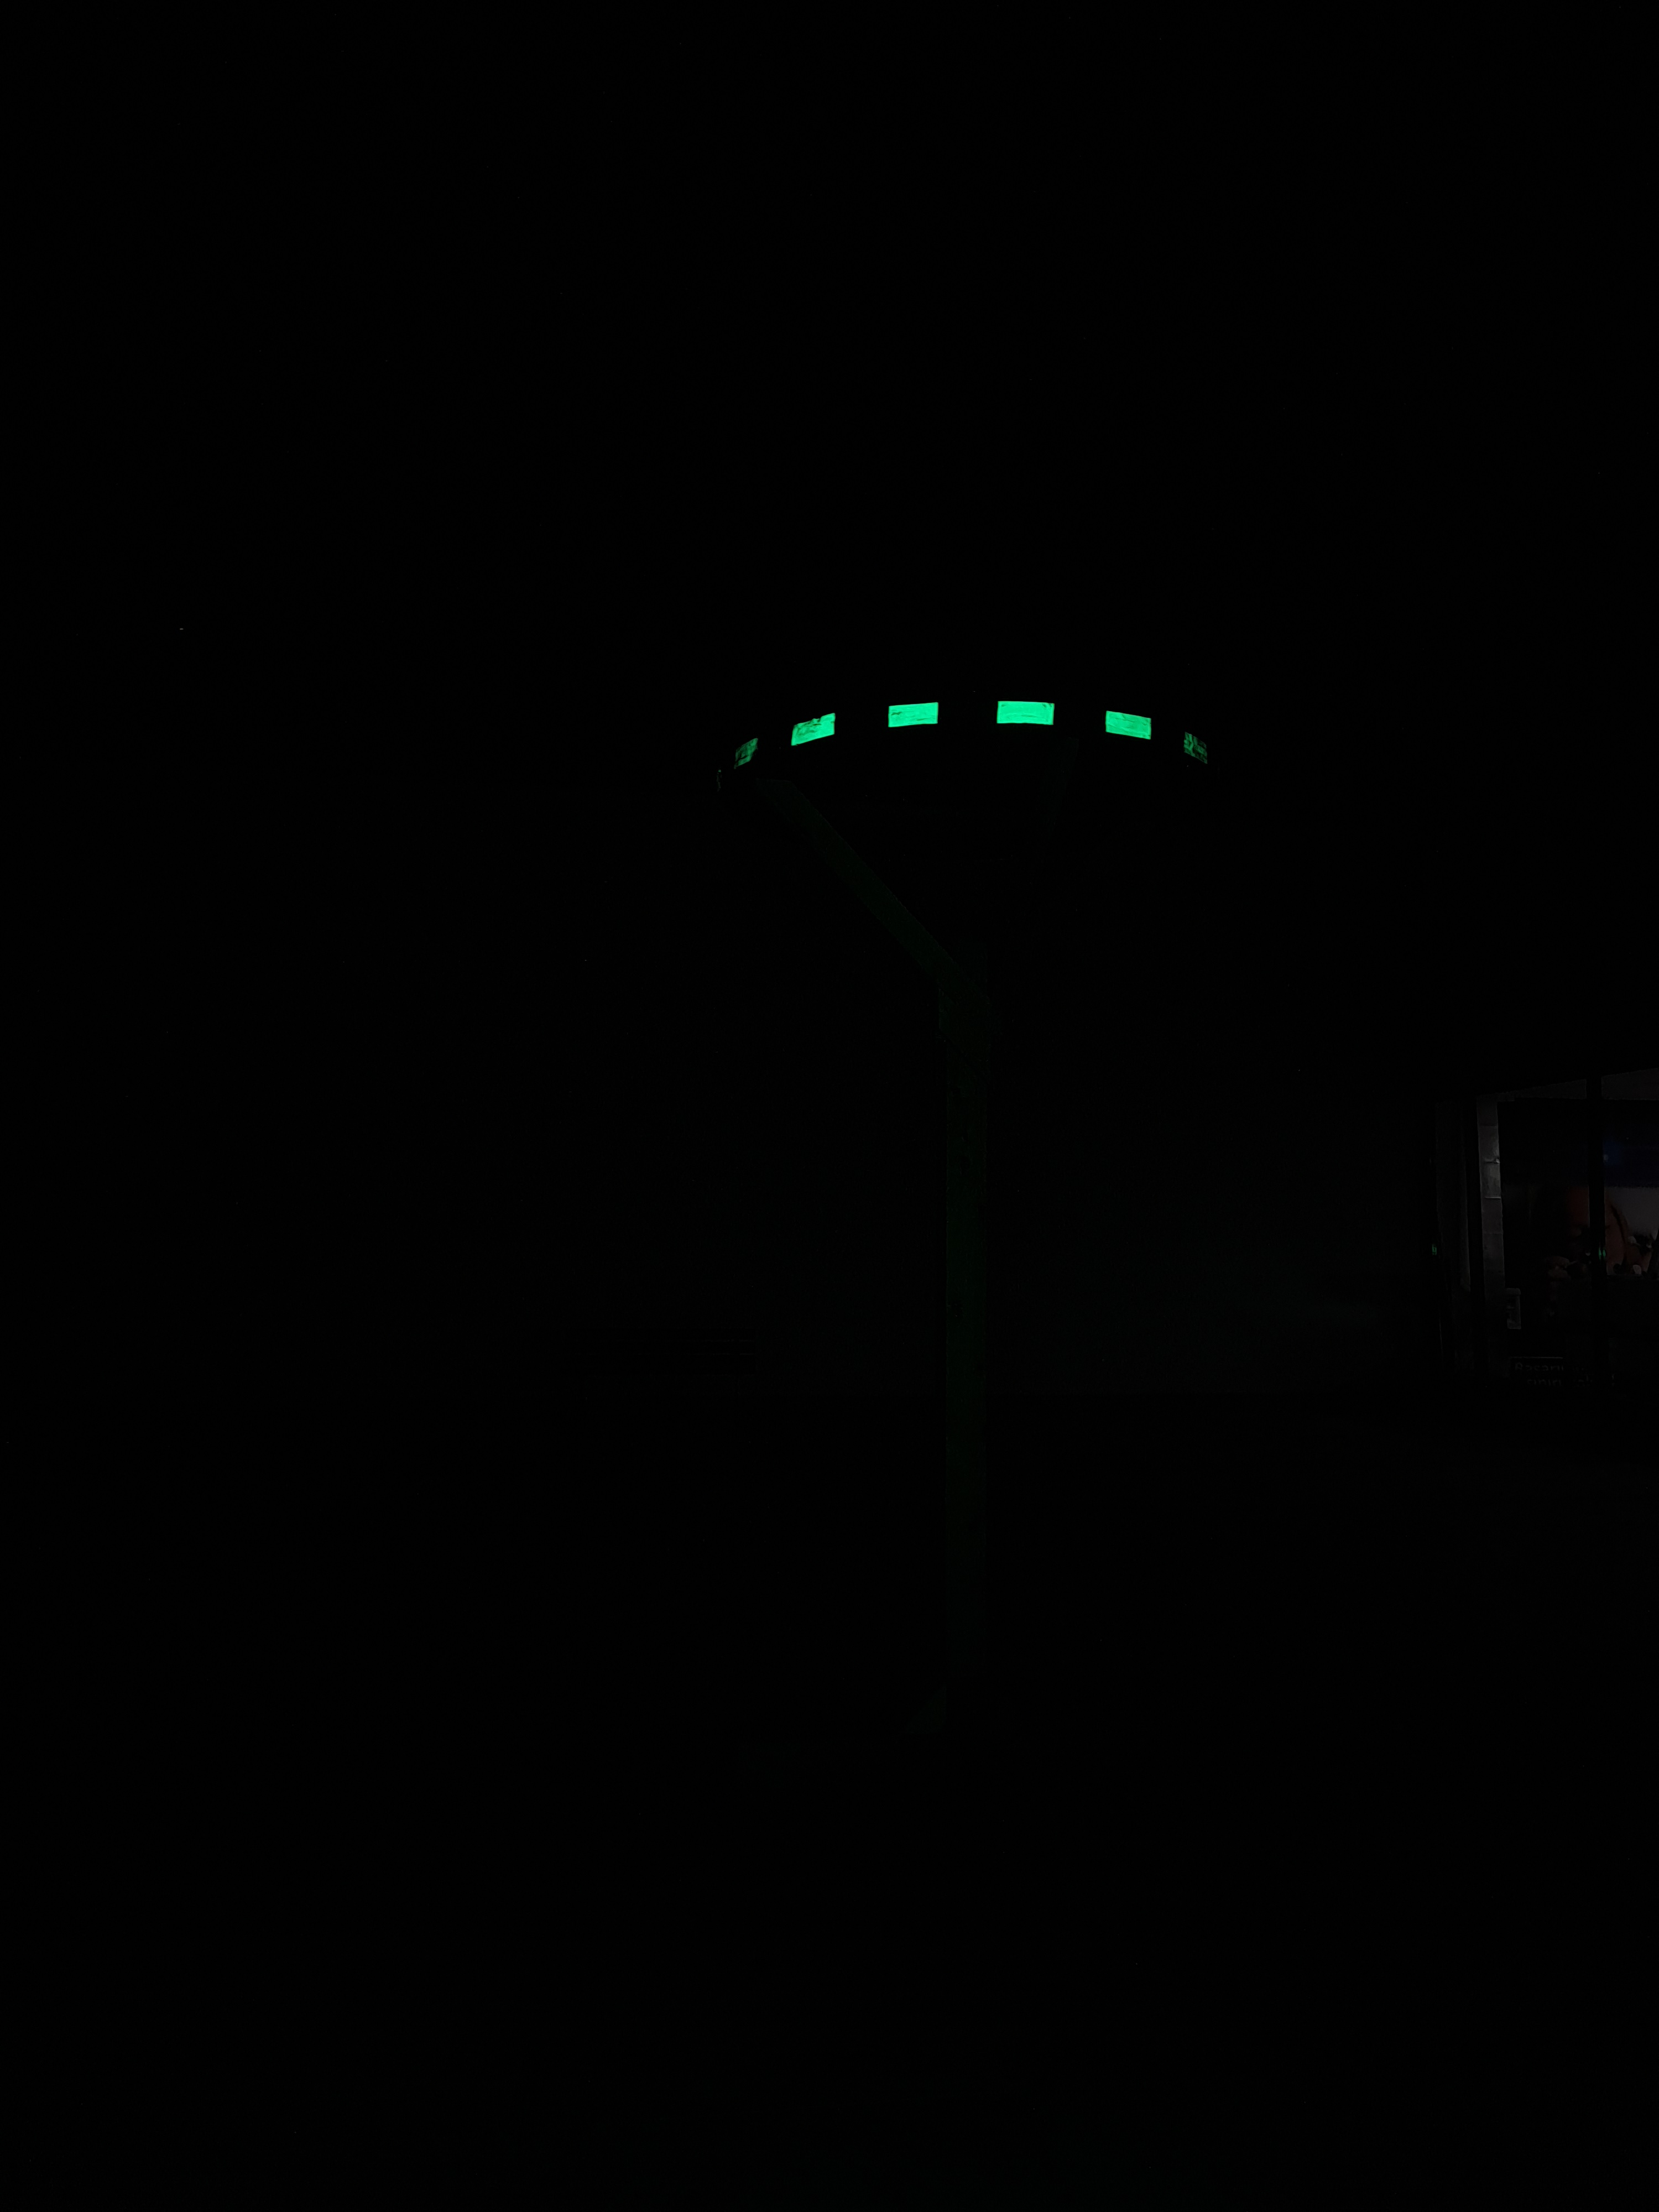hoop: (728, 698, 1218, 773)
